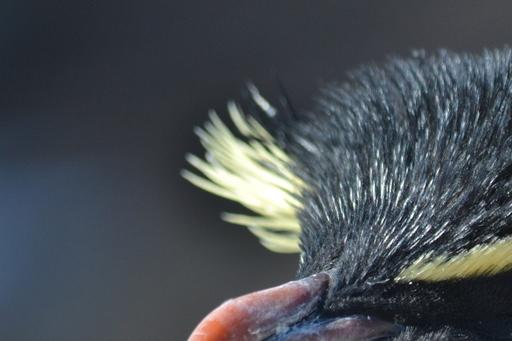Southern Rockhopper Penguin: (132, 41, 512, 341)
